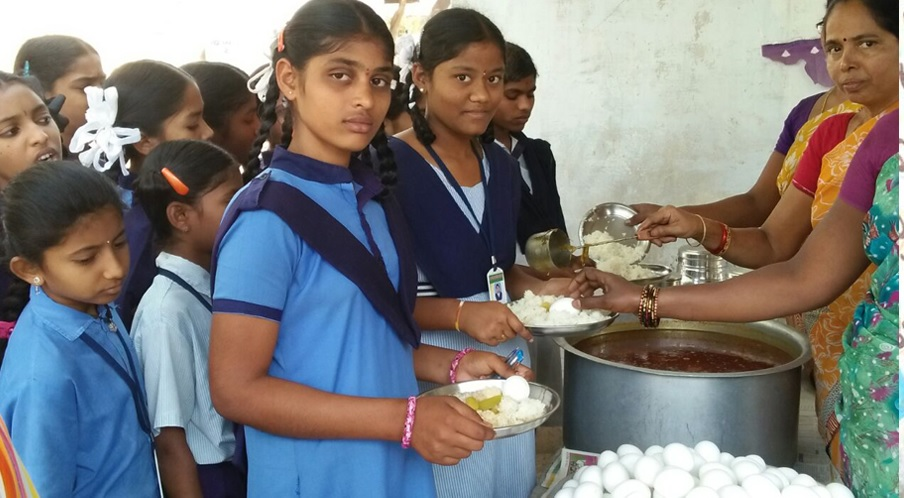student: (2, 169, 139, 304), (269, 1, 387, 156), (94, 54, 220, 172), (126, 144, 253, 252), (406, 12, 512, 137), (9, 23, 117, 131), (170, 40, 268, 159), (486, 23, 545, 137), (1, 69, 63, 176)
